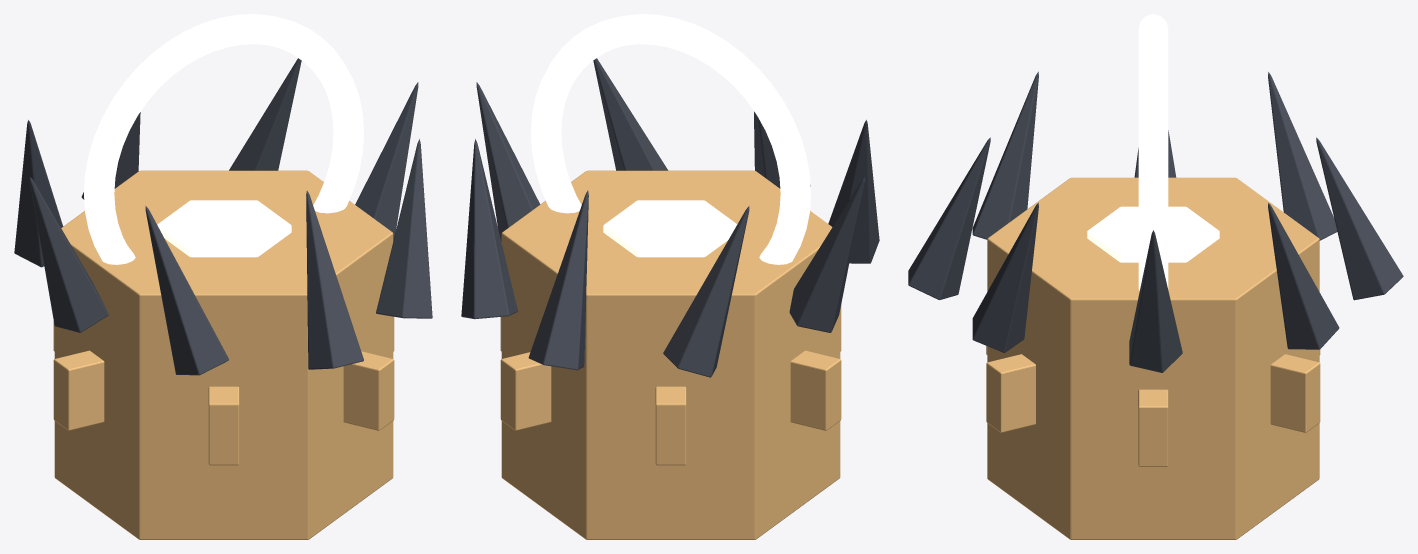
File: SM_Boss_Thermalquelle.fbx
3 views of the same model, side by side, from view 1: azimuth 30°, elevation 25°; view 2: azimuth 150°, elevation 25°; view 3: azimuth 270°, elevation 25° (orthographic).
Parts seen in each view (by area): view 1: SM_Boss_Thermalquelle; view 2: SM_Boss_Thermalquelle; view 3: SM_Boss_Thermalquelle.
Part boxes in pixels (box(x1,y1,x2,y2)): SM_Boss_Thermalquelle: box(14, 14, 432, 539); SM_Boss_Thermalquelle: box(461, 14, 879, 539); SM_Boss_Thermalquelle: box(908, 14, 1403, 539).
Bounding box in the file's own units: 3.53 × 4.05 × 3.97.
